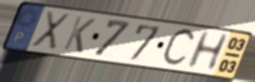7: (93, 17, 132, 58), (128, 23, 163, 62)
C: (159, 27, 198, 69)
H: (183, 30, 232, 72)
K: (60, 15, 98, 56)
X: (29, 9, 72, 53)
